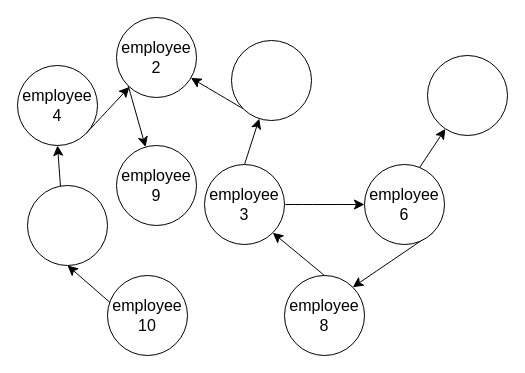
This 525x373 diagram has some shape labels left out. The centre of each missing label's shape, as x and y in pixels:
"employee 1" goes at (271,80).
"employee 5" goes at (67,225).
"employee 7" goes at (467,95).
